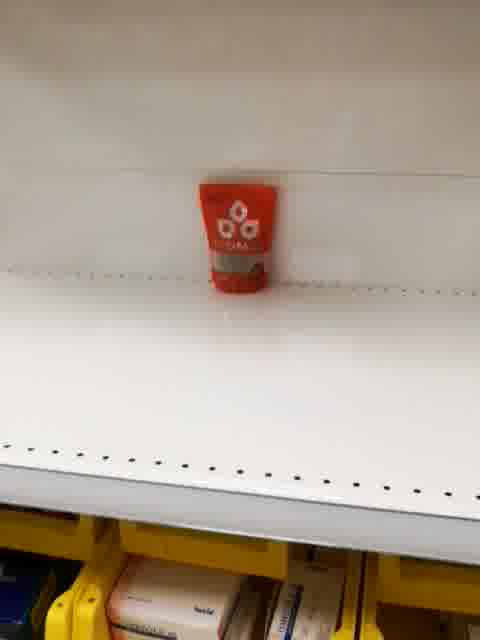whitechia: (195, 180, 279, 299)
